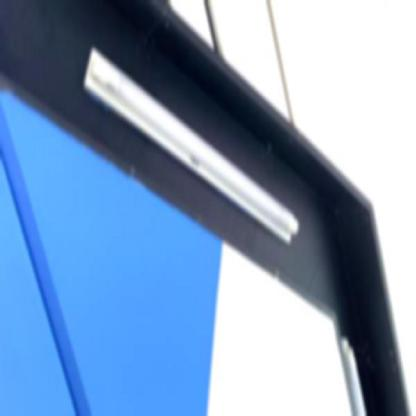light_off: (80, 42, 300, 250), (332, 321, 373, 415)
